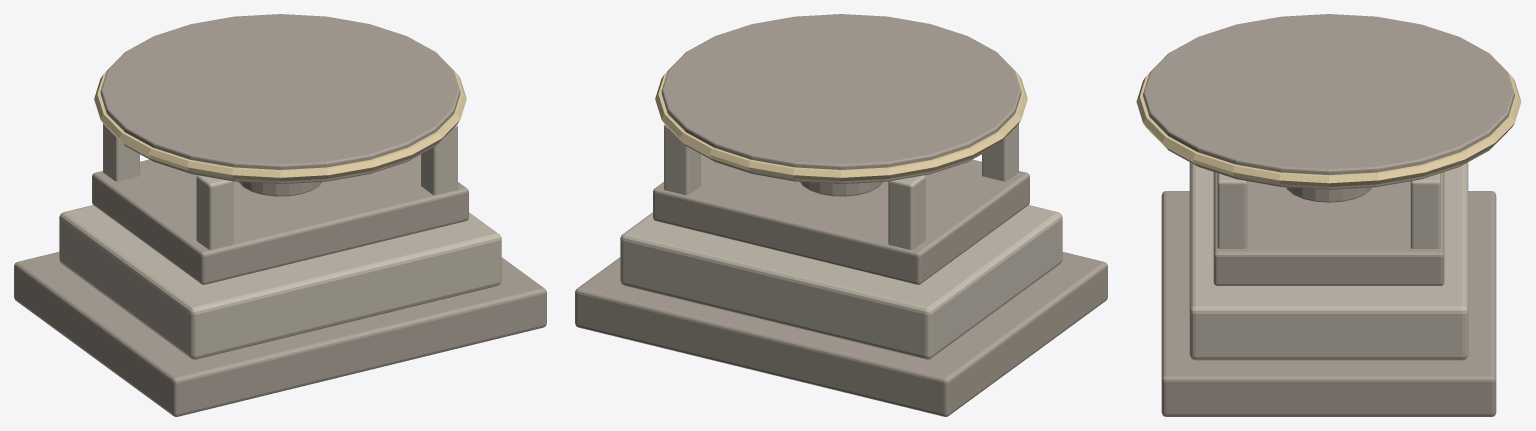
Rendered from 25-Ruinas-Templos_altar_ritual.glb.
3 renders of one model, left to right at view 1: azimuth 30°, elevation 25°; view 2: azimuth 150°, elevation 25°; view 3: azimuth 270°, elevation 25°, orthographic. The views are drawn at different scales.
Parts seen in each view (by area): view 1: SM_Altar_Tapa, SM_Altar_EscalonSup, SM_Altar_EscalonInf, SM_Altar_Mesa, SM_Altar_Banda, SM_Altar_Pilar_IF, SM_Altar_Pilar_DF, SM_Altar_Pilar_IT, SM_Altar_Cuenco; view 2: SM_Altar_Tapa, SM_Altar_EscalonSup, SM_Altar_EscalonInf, SM_Altar_Mesa, SM_Altar_Banda, SM_Altar_Pilar_IT, SM_Altar_Pilar_DT, SM_Altar_Pilar_IF, SM_Altar_Cuenco; view 3: SM_Altar_Tapa, SM_Altar_EscalonInf, SM_Altar_EscalonSup, SM_Altar_Mesa, SM_Altar_Banda, SM_Altar_Pilar_DF, SM_Altar_Pilar_DT, SM_Altar_Cuenco.
Part boxes in pixels (bbox=[...]): SM_Altar_Tapa: bbox=[100, 14, 460, 184]; SM_Altar_EscalonSup: bbox=[59, 205, 501, 359]; SM_Altar_EscalonInf: bbox=[14, 252, 546, 416]; SM_Altar_Mesa: bbox=[92, 154, 468, 284]; SM_Altar_Banda: bbox=[94, 55, 466, 181]; SM_Altar_Pilar_IF: bbox=[196, 175, 233, 249]; SM_Altar_Pilar_DF: bbox=[421, 125, 457, 195]; SM_Altar_Pilar_IT: bbox=[103, 124, 139, 181]; SM_Altar_Cuenco: bbox=[239, 182, 321, 196]; SM_Altar_Tapa: bbox=[661, 14, 1021, 184]; SM_Altar_EscalonSup: bbox=[620, 205, 1062, 359]; SM_Altar_EscalonInf: bbox=[575, 252, 1107, 416]; SM_Altar_Mesa: bbox=[653, 154, 1029, 284]; SM_Altar_Banda: bbox=[655, 55, 1027, 181]; SM_Altar_Pilar_IT: bbox=[888, 175, 925, 249]; SM_Altar_Pilar_DT: bbox=[664, 125, 700, 195]; SM_Altar_Pilar_IF: bbox=[982, 124, 1018, 181]; SM_Altar_Cuenco: bbox=[800, 182, 882, 196]; SM_Altar_Tapa: bbox=[1143, 14, 1514, 189]; SM_Altar_EscalonInf: bbox=[1161, 191, 1496, 416]; SM_Altar_EscalonSup: bbox=[1189, 162, 1468, 360]; SM_Altar_Mesa: bbox=[1213, 172, 1444, 285]; SM_Altar_Banda: bbox=[1136, 58, 1521, 186]; SM_Altar_Pilar_DF: bbox=[1217, 173, 1247, 248]; SM_Altar_Pilar_DT: bbox=[1410, 173, 1440, 248]; SM_Altar_Cuenco: bbox=[1286, 187, 1371, 202].
Bounding box in the file's own units: 1.2 × 0.69 × 1.04.
